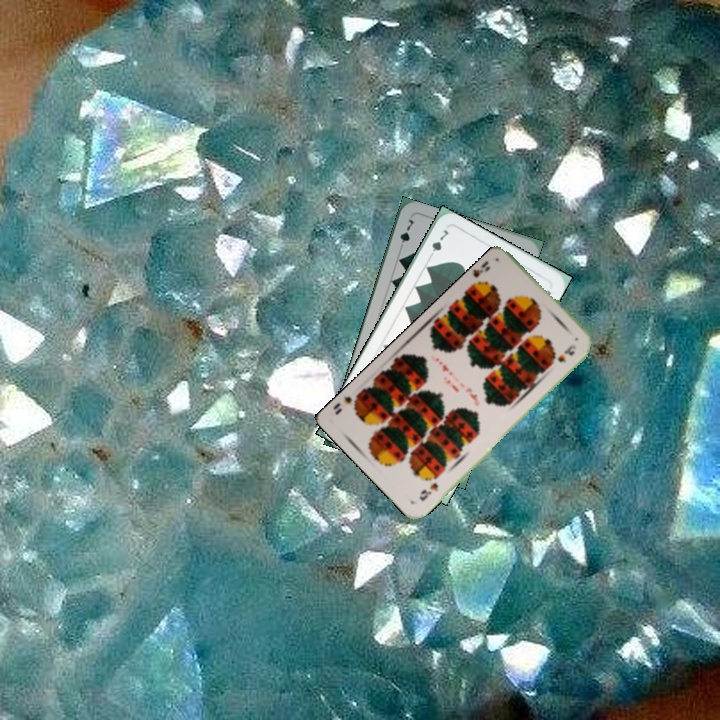G7: (424, 225, 451, 262), (396, 215, 417, 254)
S9: (467, 262, 493, 288), (415, 479, 441, 504)
